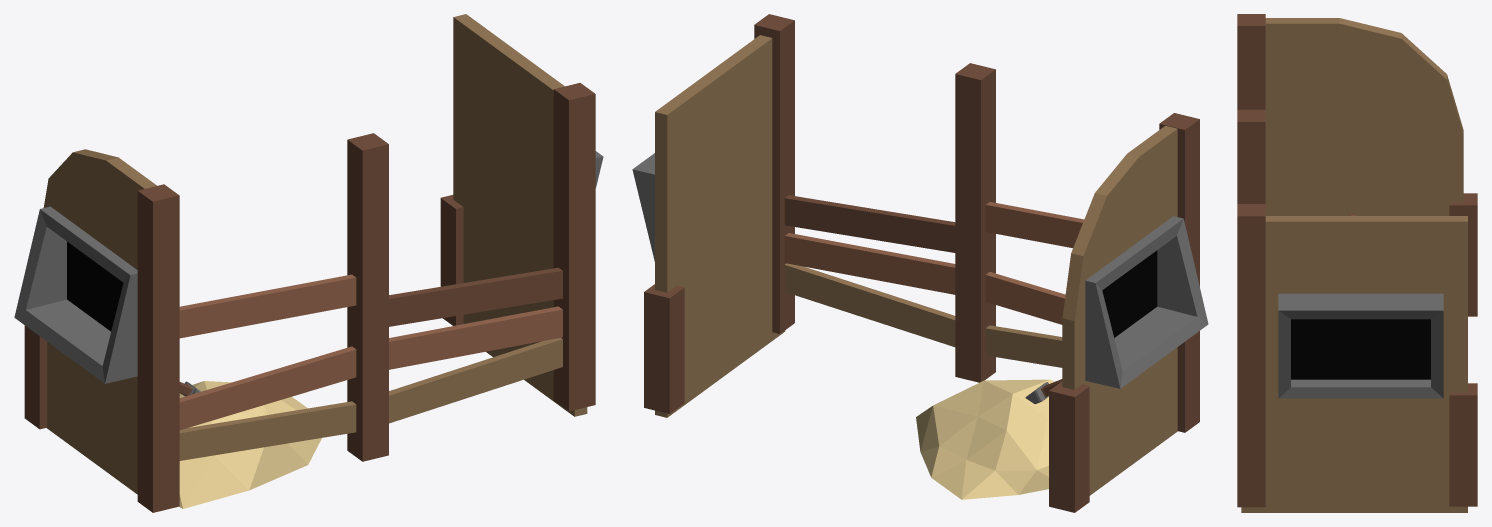
The model's file is Seperated_Sand_Collector.fbx.
3 views of the same model, side by side, from view 1: azimuth 30°, elevation 25°; view 2: azimuth 150°, elevation 25°; view 3: azimuth 270°, elevation 25° (orthographic). The views are drawn at different scales.
Parts seen in each view (by area): view 1: Cube.494, Cube.486, Cube.489, Cube.488, Cube.490, Cube.498, Cube.491, Cube.493, Cube.492, Cube.496, Cube.495, Cube.497 (+2 smaller); view 2: Cube.486, Cube.494, Cube.498, Cube.490, Cube.488, Cube.496, Cube.495, Cube.497, Cube.489, Cube.022, Cube.487, Cube.493 (+2 smaller); view 3: Cube.486, Cube.494, Cube.488, Cube.487, Cube.489, Cube.490, Cube.022.
Part boxes in pixels (left/top/right/bottom): Cube.494: left=14, top=149, right=156, bottom=494; Cube.486: left=453, top=14, right=603, bottom=416; Cube.489: left=137, top=184, right=179, bottom=512; Cube.488: left=553, top=83, right=595, bottom=411; Cube.490: left=347, top=133, right=388, bottom=461; Cube.498: left=179, top=381, right=321, bottom=508; Cube.491: left=179, top=346, right=356, bottom=430; Cube.493: left=179, top=274, right=356, bottom=338; Cube.492: left=179, top=401, right=356, bottom=460; Cube.496: left=389, top=337, right=562, bottom=423; Cube.495: left=389, top=306, right=562, bottom=369; Cube.497: left=389, top=267, right=562, bottom=326; Cube.486: left=632, top=35, right=785, bottom=417; Cube.494: left=1062, top=125, right=1208, bottom=495; Cube.498: left=916, top=379, right=1053, bottom=499; Cube.490: left=955, top=63, right=995, bottom=382; Cube.488: left=754, top=14, right=794, bottom=333; Cube.496: left=784, top=263, right=955, bottom=347; Cube.495: left=784, top=233, right=955, bottom=294; Cube.497: left=784, top=195, right=955, bottom=252; Cube.489: left=1159, top=113, right=1199, bottom=432; Cube.022: left=1049, top=381, right=1089, bottom=512; Cube.487: left=644, top=284, right=684, bottom=413; Cube.493: left=985, top=202, right=1084, bottom=248; Cube.486: left=1241, top=216, right=1467, bottom=512; Cube.494: left=1265, top=18, right=1463, bottom=215; Cube.488: left=1237, top=204, right=1265, bottom=507; Cube.487: left=1449, top=383, right=1477, bottom=506; Cube.489: left=1237, top=14, right=1265, bottom=109; Cube.490: left=1237, top=109, right=1265, bottom=203; Cube.022: left=1449, top=193, right=1477, bottom=316.
Bounding box in the file's own units: 337 × 215 × 150.
